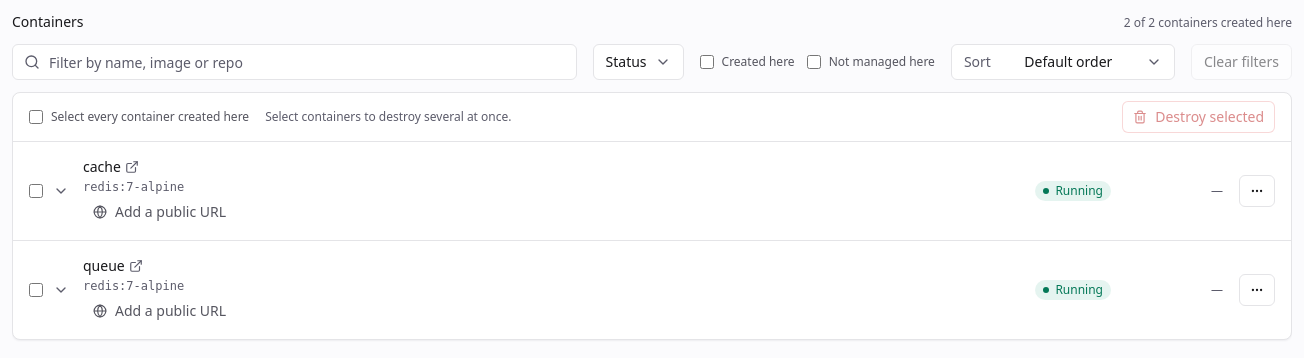
Scenario: ContainerList › selection › says how many are selected, and says what selection is for when none are
Expected: the text "Select containers to destroy several at once." is shown, [265,109,512,125]
Click the checkbox named "Select cache" below "cache" at {"x": 36, "y": 191}, box [29,184,43,198]
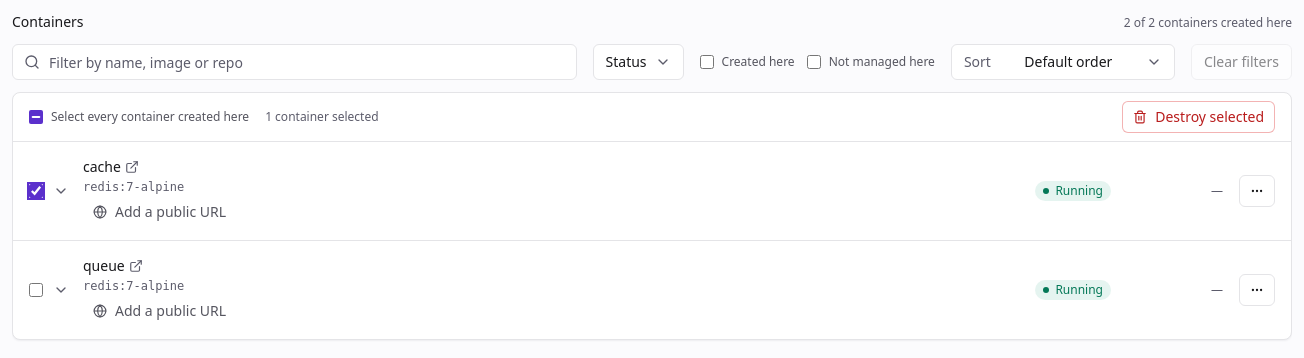
Now the text "1 container selected" is shown, box [265,109,379,125]
Click the checkbox below "queue" at {"x": 36, "y": 290}, box [29,283,43,297]
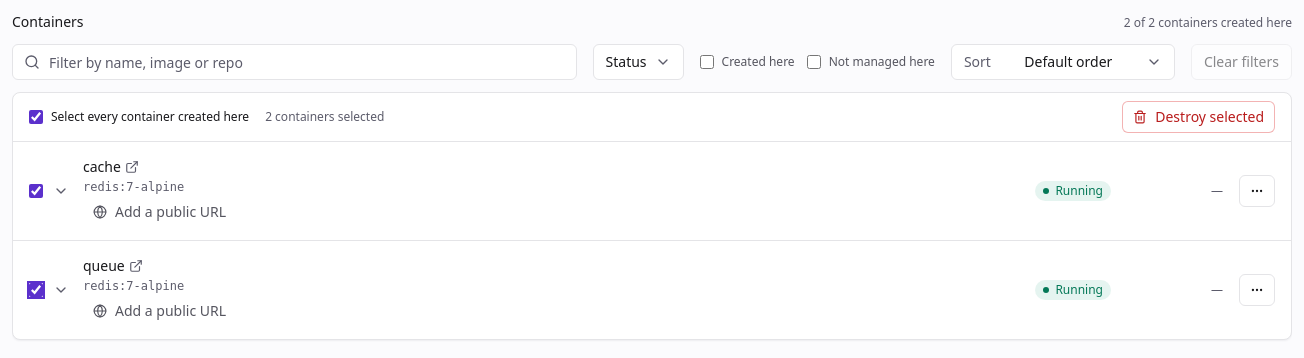
Now the text "2 containers selected" is shown, box [265,109,384,125]
